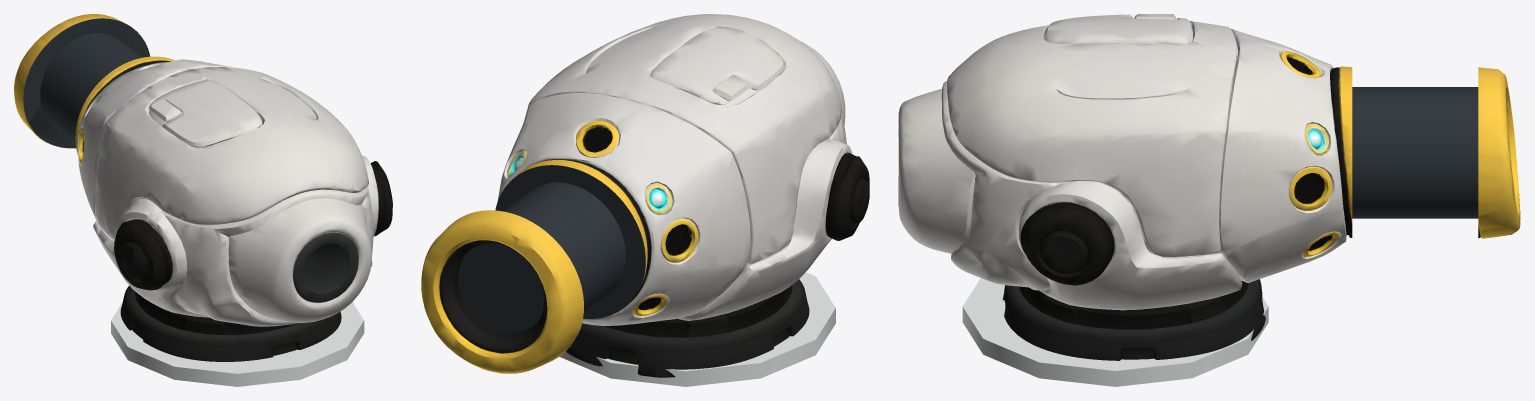
The model's file is bubble_cannon.glb.
3 views of the same model, side by side, from view 1: azimuth 30°, elevation 25°; view 2: azimuth 150°, elevation 25°; view 3: azimuth 270°, elevation 25° (orthographic). The views are drawn at different scales.
Visible parts, largest first — view 1: Body.024, ArmoredMount.014, RecoilSleeve.009, Barrel.021; view 2: Body.024, Barrel.021, RecoilSleeve.009, ArmoredMount.014; view 3: Body.024, RecoilSleeve.009, ArmoredMount.014, Barrel.021.
Boxes of the visible parts, <box> form: Body.024: <box>75,56,392,361</box>; ArmoredMount.014: <box>111,302,364,386</box>; RecoilSleeve.009: <box>40,33,143,142</box>; Barrel.021: <box>14,14,150,148</box>; Body.024: <box>495,14,869,377</box>; Barrel.021: <box>421,210,583,373</box>; RecoilSleeve.009: <box>457,182,625,332</box>; ArmoredMount.014: <box>559,272,835,386</box>; Body.024: <box>898,14,1352,360</box>; RecoilSleeve.009: <box>1352,87,1478,218</box>; ArmoredMount.014: <box>962,278,1268,386</box>; Barrel.021: <box>1478,67,1520,238</box>.
Bounding box in the file's own units: 1.03 × 0.8827 × 1.75.
3 materials, 1 textured.
